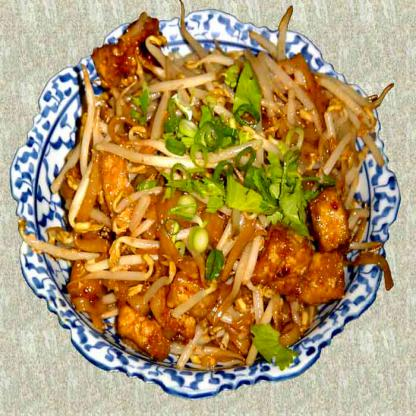Pad Thai: (15, 20, 408, 386)
